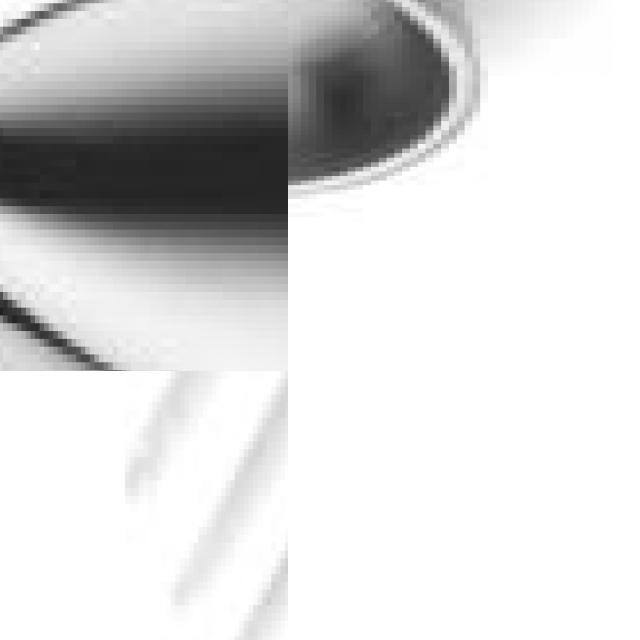forks: (1, 371, 288, 555)
spoons: (0, 0, 288, 371)
